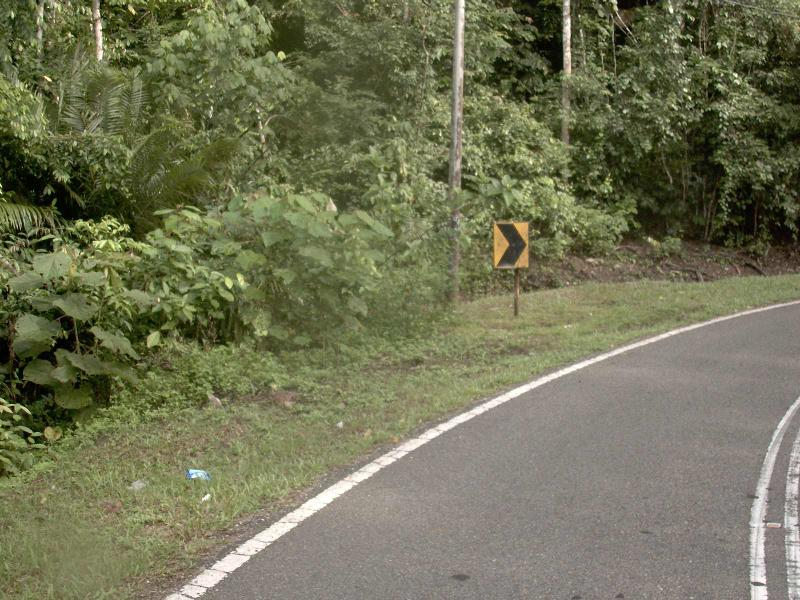traffic_sign: (483, 210, 541, 280)
